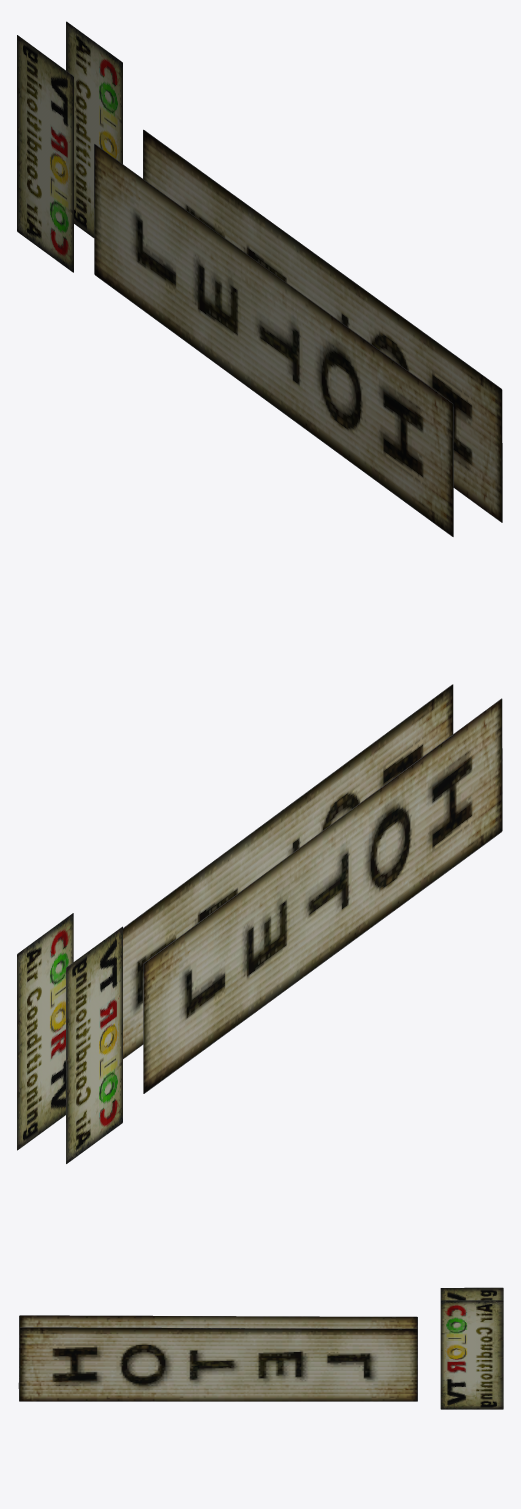
File: hotel_tall3.fbx
3 views of the same model, one above another, from view 1: azimuth 30°, elevation 25°; view 2: azimuth 150°, elevation 25°; view 3: azimuth 270°, elevation 25° (orthographic). The views are drawn at different scales.
Visible parts, largest first — view 1: mesh_0; view 2: mesh_0; view 3: mesh_0.
Part boxes in pixels (left/top/right/bottom): mesh_0: left=17, top=21, right=502, bottom=536; mesh_0: left=17, top=684, right=502, bottom=1163; mesh_0: left=18, top=1287, right=503, bottom=1409.
Bounding box in the file's own units: 28.39 × 199 × 444.
Materials: 1 (1 with a texture image).
